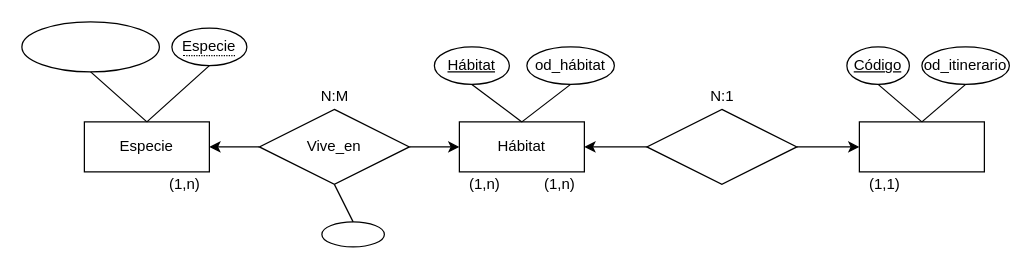
Image size: 1031x269. Some labels were removed from this diagram. Here are the shapes that lost their labels. From the top down, the centre of each, then its label:
[90,46]: Nombre_científico
[721,146]: Se_realiza
[921,146]: Itinerario
[352,234]: Índice
